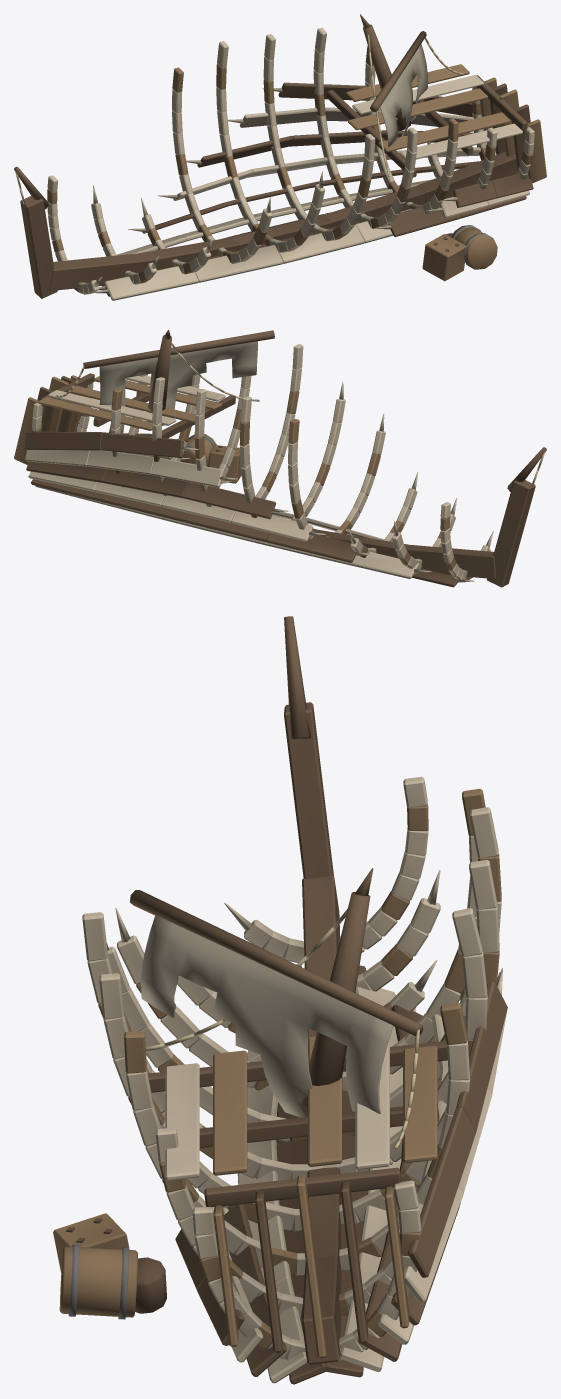
File: shipwreck.e984f8e6.glb
3 renders of one model, top to bottom at view 1: azimuth 30°, elevation 25°; view 2: azimuth 150°, elevation 25°; view 3: azimuth 270°, elevation 25°, orthographic. The views are drawn at different scales.
Visible parts, largest first — view 1: shipwreck; view 2: shipwreck; view 3: shipwreck.
Part boxes in pixels (x1,y1,x2,y2): shipwreck: (14,14,546,300); shipwreck: (14,329,546,587); shipwreck: (53,616,507,1384).
Bounding box in the file's own units: 12.18 × 4.72 × 4.75.
